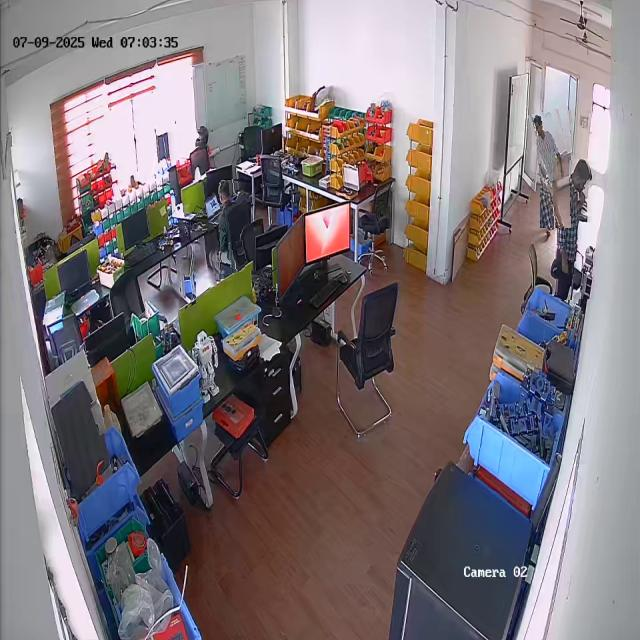person: (553, 160, 593, 300), (534, 110, 577, 229), (206, 179, 251, 274)
